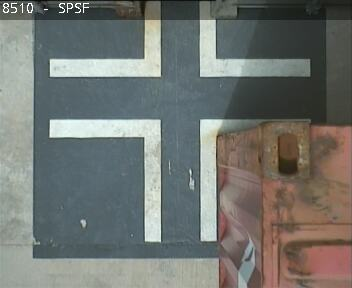groundmarker_1: (49, 117, 309, 240), (49, 1, 310, 77)
